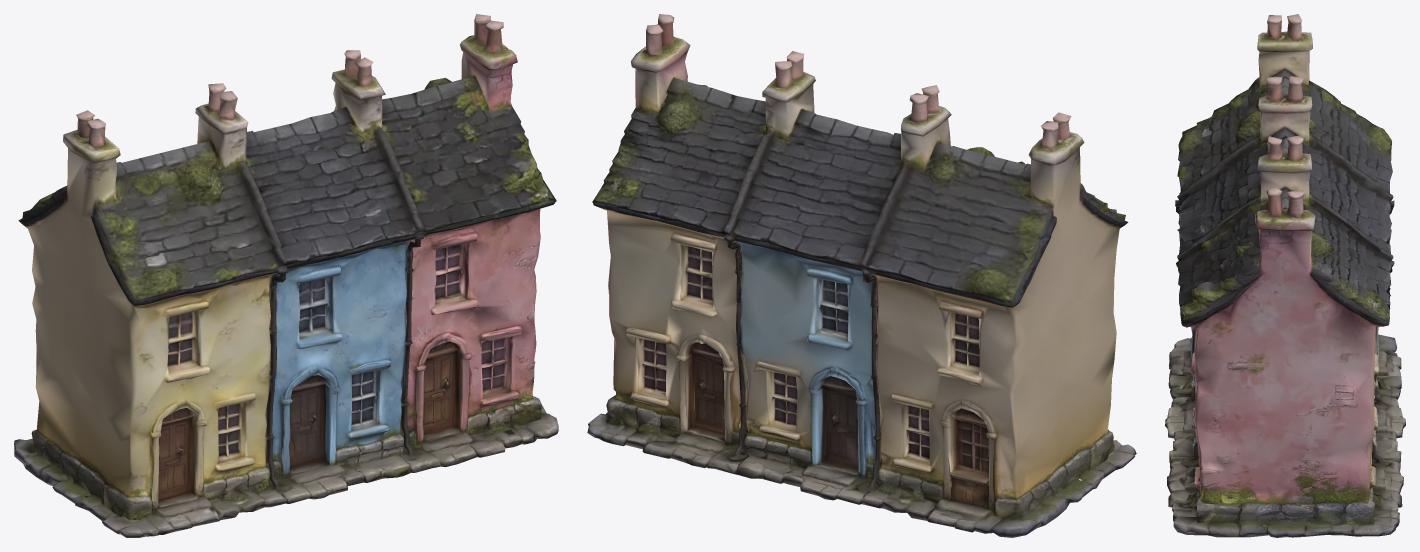
File: town_house_row_terrace.glb
3 renders of one model, left to right at view 1: azimuth 30°, elevation 25°; view 2: azimuth 150°, elevation 25°; view 3: azimuth 270°, elevation 25°, orthographic. The views are drawn at different scales.
Parts seen in each view (by area): view 1: tripo_node_10a805f2-f68e-4ada-8a54-e45c44bd383b; view 2: tripo_node_10a805f2-f68e-4ada-8a54-e45c44bd383b; view 3: tripo_node_10a805f2-f68e-4ada-8a54-e45c44bd383b.
Part boxes in pixels (x1,y1,x2,y2): tripo_node_10a805f2-f68e-4ada-8a54-e45c44bd383b: (14,14,558,537); tripo_node_10a805f2-f68e-4ada-8a54-e45c44bd383b: (587,14,1136,537); tripo_node_10a805f2-f68e-4ada-8a54-e45c44bd383b: (1165,14,1405,537).
Size of the model in its own units: 11.39 by 9 by 5.82.
1 material, 1 textured.
